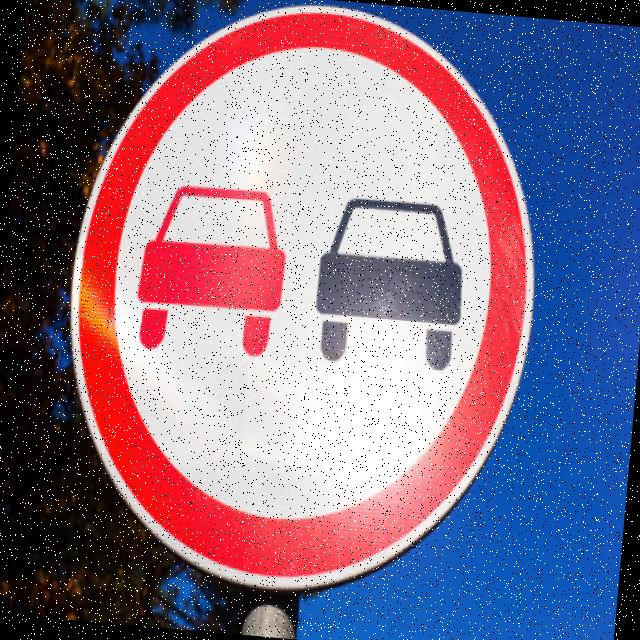no_passing: (32, 0, 562, 617)
